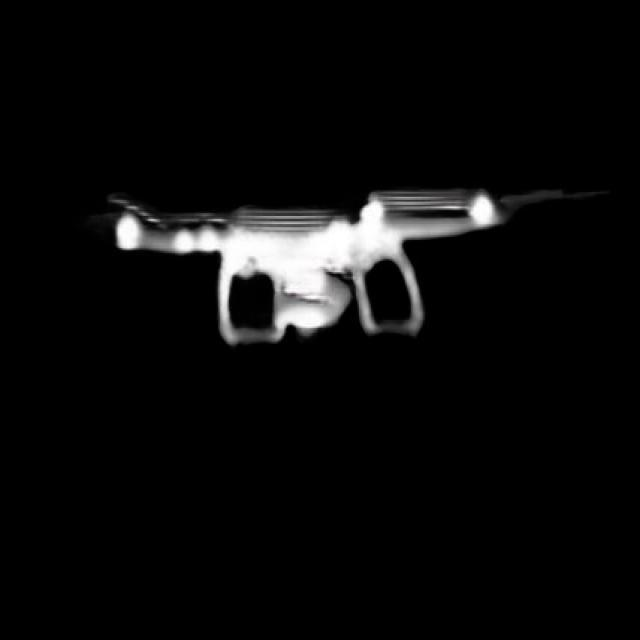drone: (78, 170, 520, 347)
